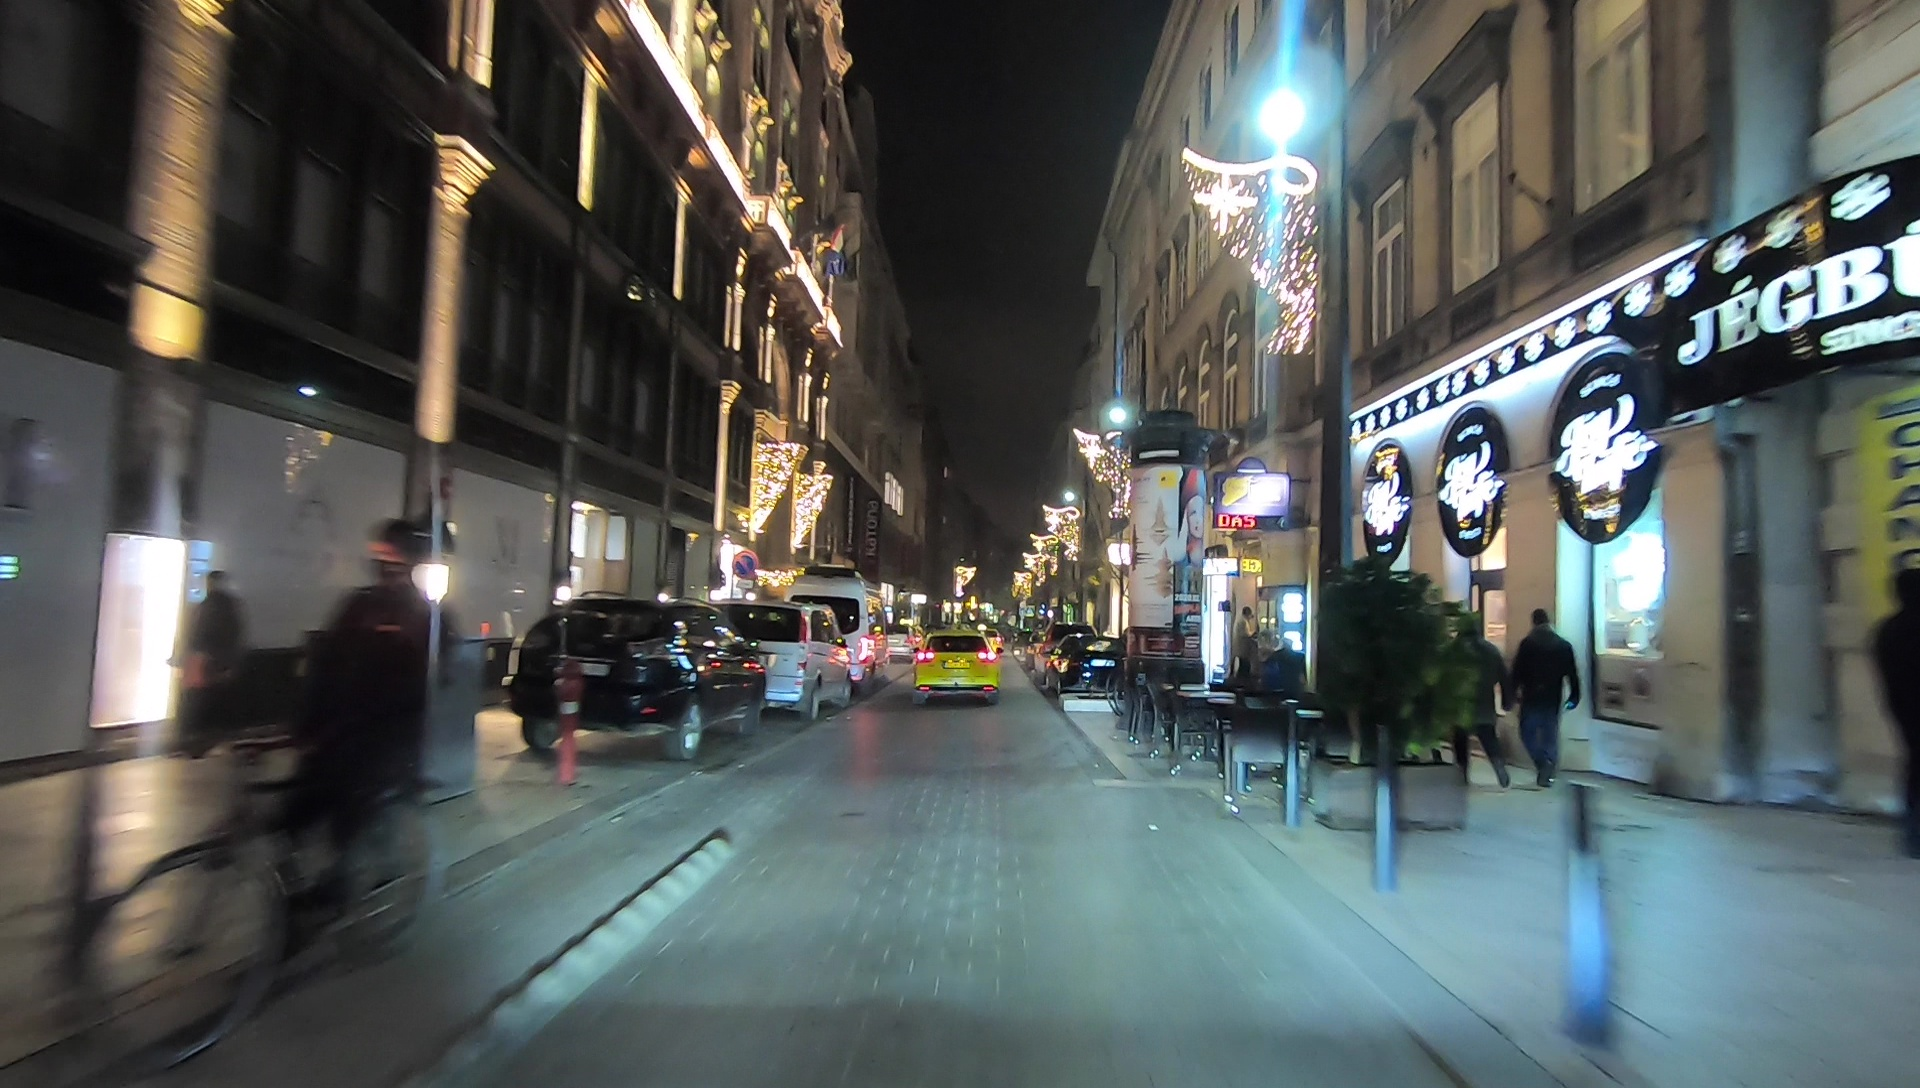person: (1867, 567, 1920, 855), (173, 569, 252, 756), (1443, 610, 1517, 791), (1512, 611, 1578, 787), (1234, 602, 1258, 683)
